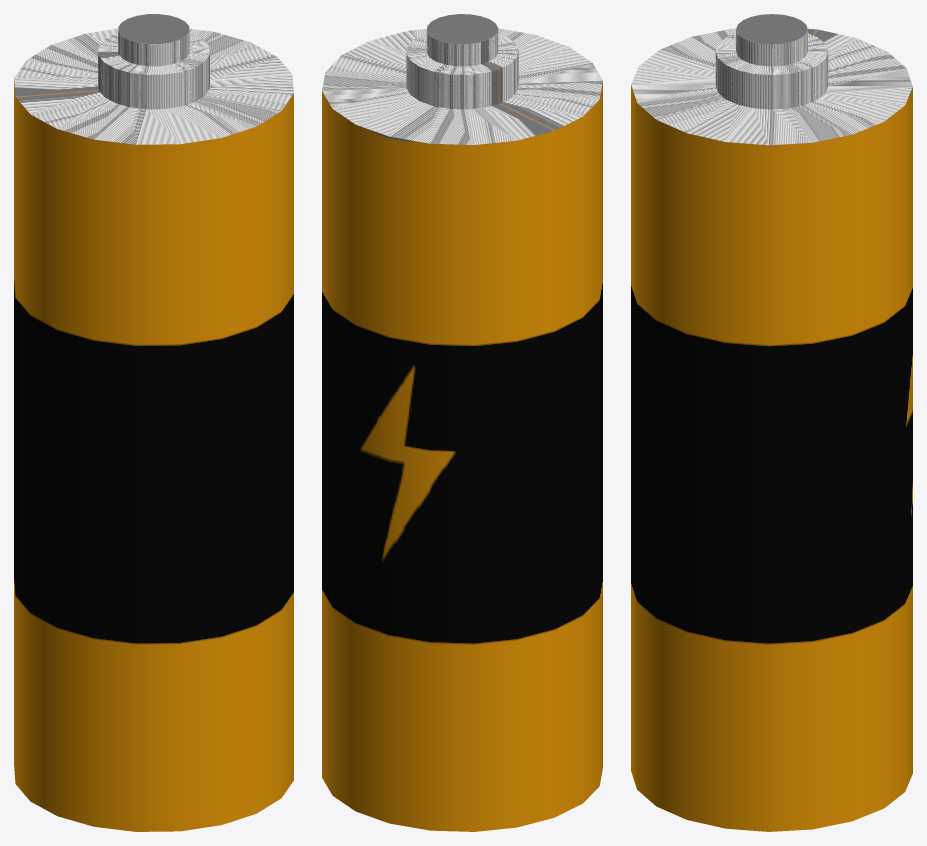
The model's file is denchi.obj.
The picture shows the model from 3 angles, left to right: view 1: azimuth 30°, elevation 25°; view 2: azimuth 150°, elevation 25°; view 3: azimuth 270°, elevation 25°; orthographic projection.
Parts seen in each view (by area): view 1: pCylinder1; view 2: pCylinder1; view 3: pCylinder1.
Part boxes in pixels (box(x1,y1,x2,y2)): pCylinder1: box(14, 14, 293, 831); pCylinder1: box(322, 14, 602, 831); pCylinder1: box(631, 14, 912, 831).
Bounding box in the file's own units: 2 × 5.82 × 2.
1 material, 1 textured.
